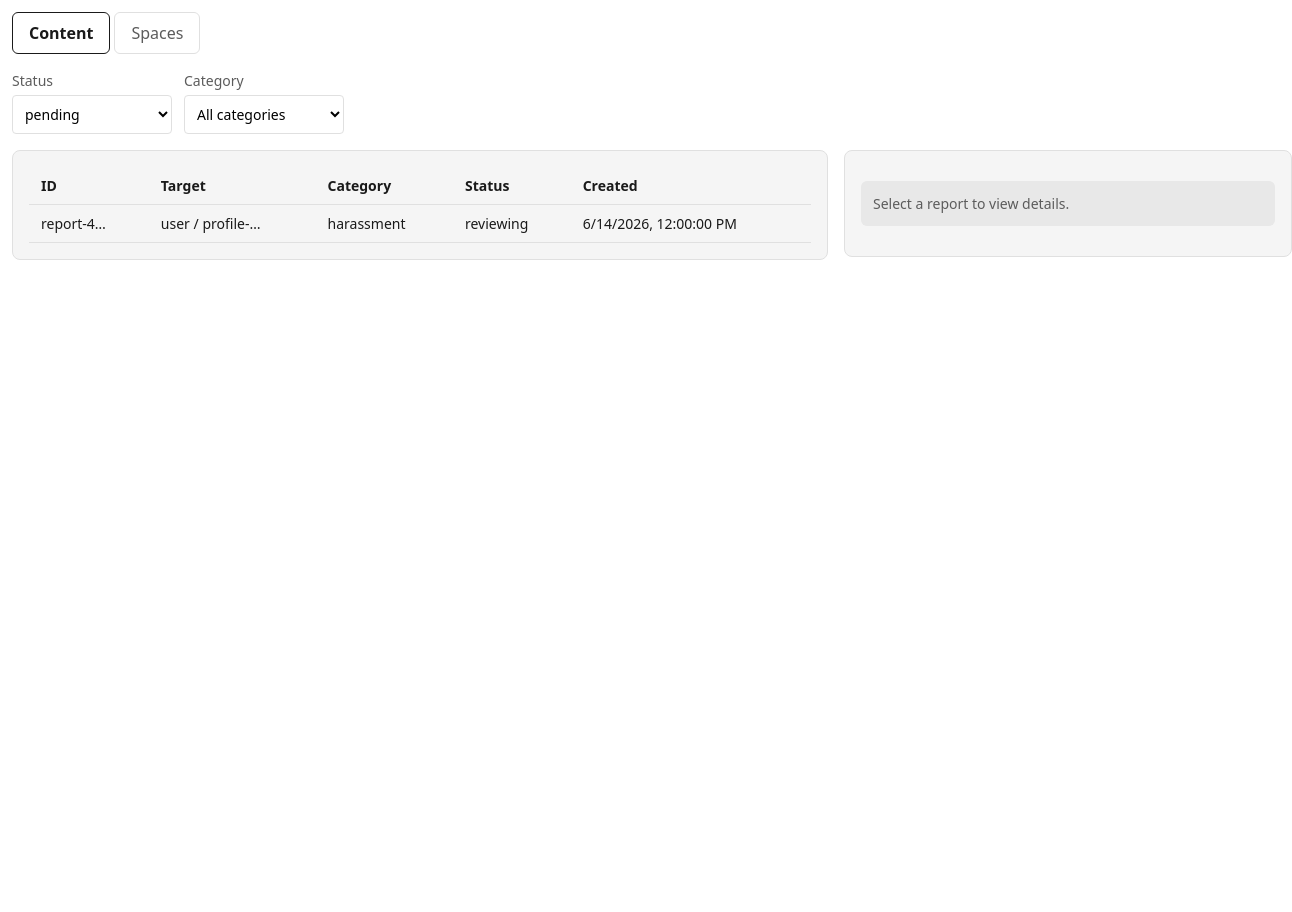
it: QueuePage report close workflow › resolves selected report and removes it from pending queue
Click the row with test id "report-row-report-42" at (420, 224), box [29, 204, 811, 242]
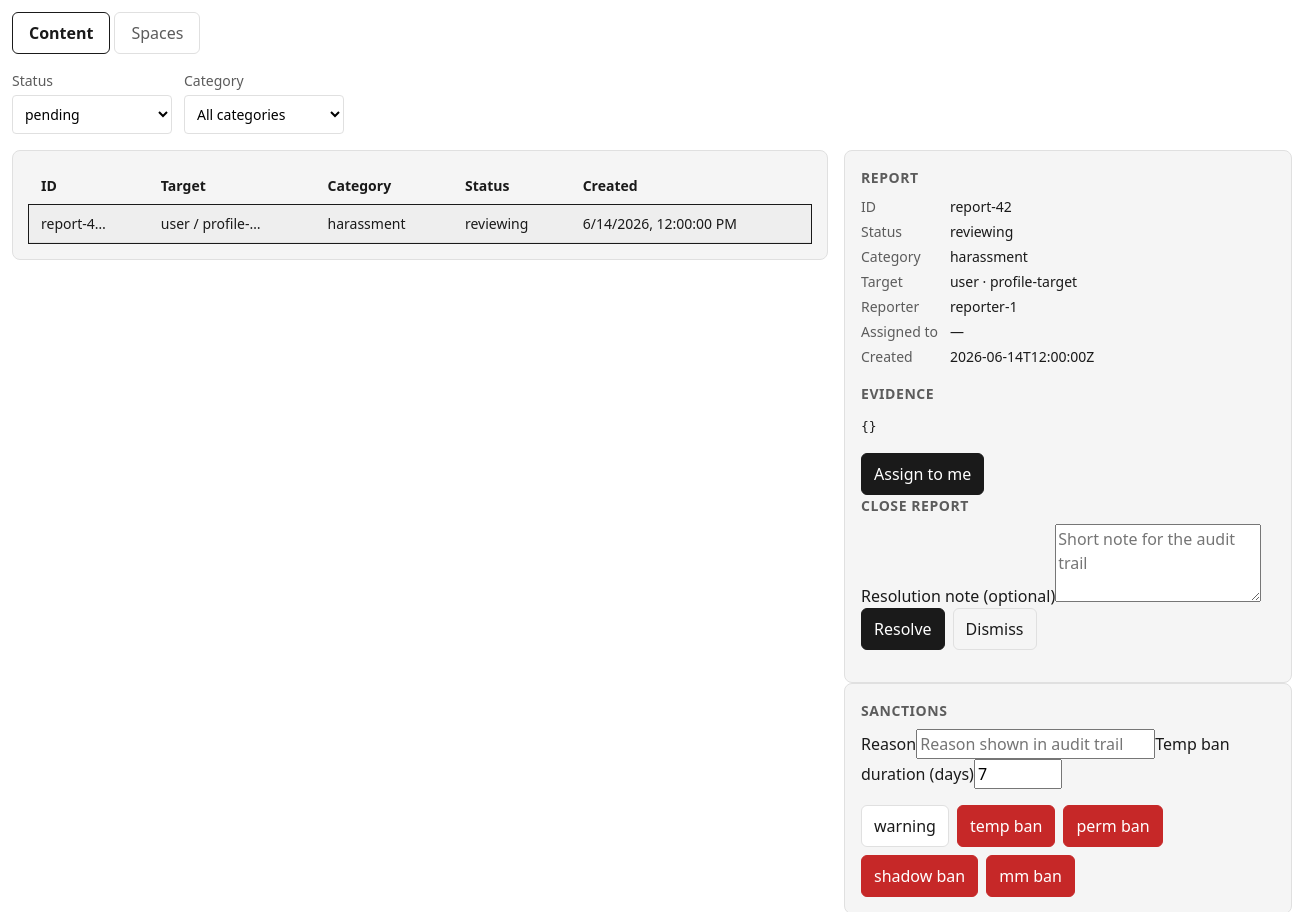
Type "ok" into the text box with test id "resolution-note" at (1158, 562), box [1055, 524, 1261, 602]
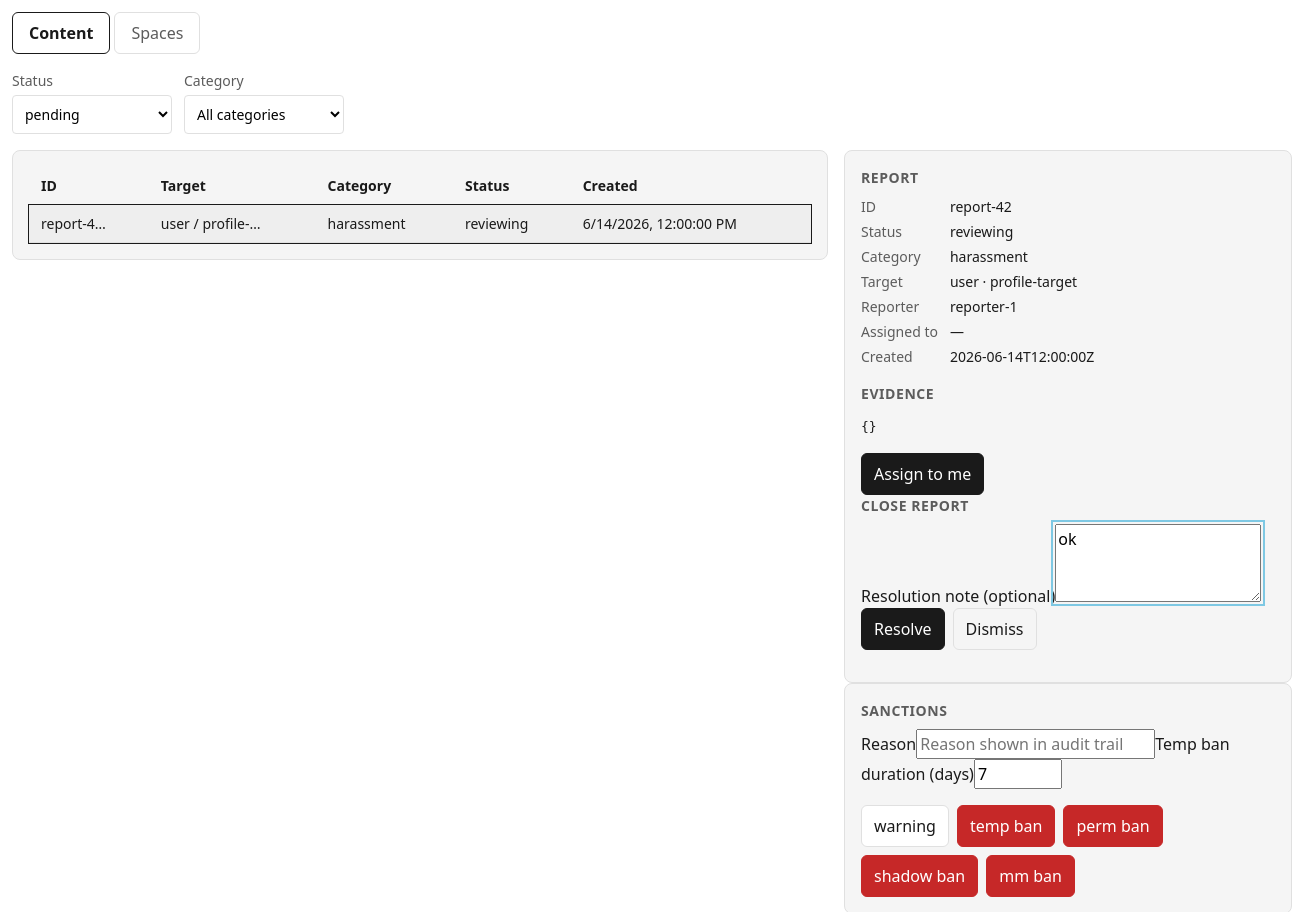
Click the button with test id "resolve-report" at (903, 628), box [861, 608, 945, 650]
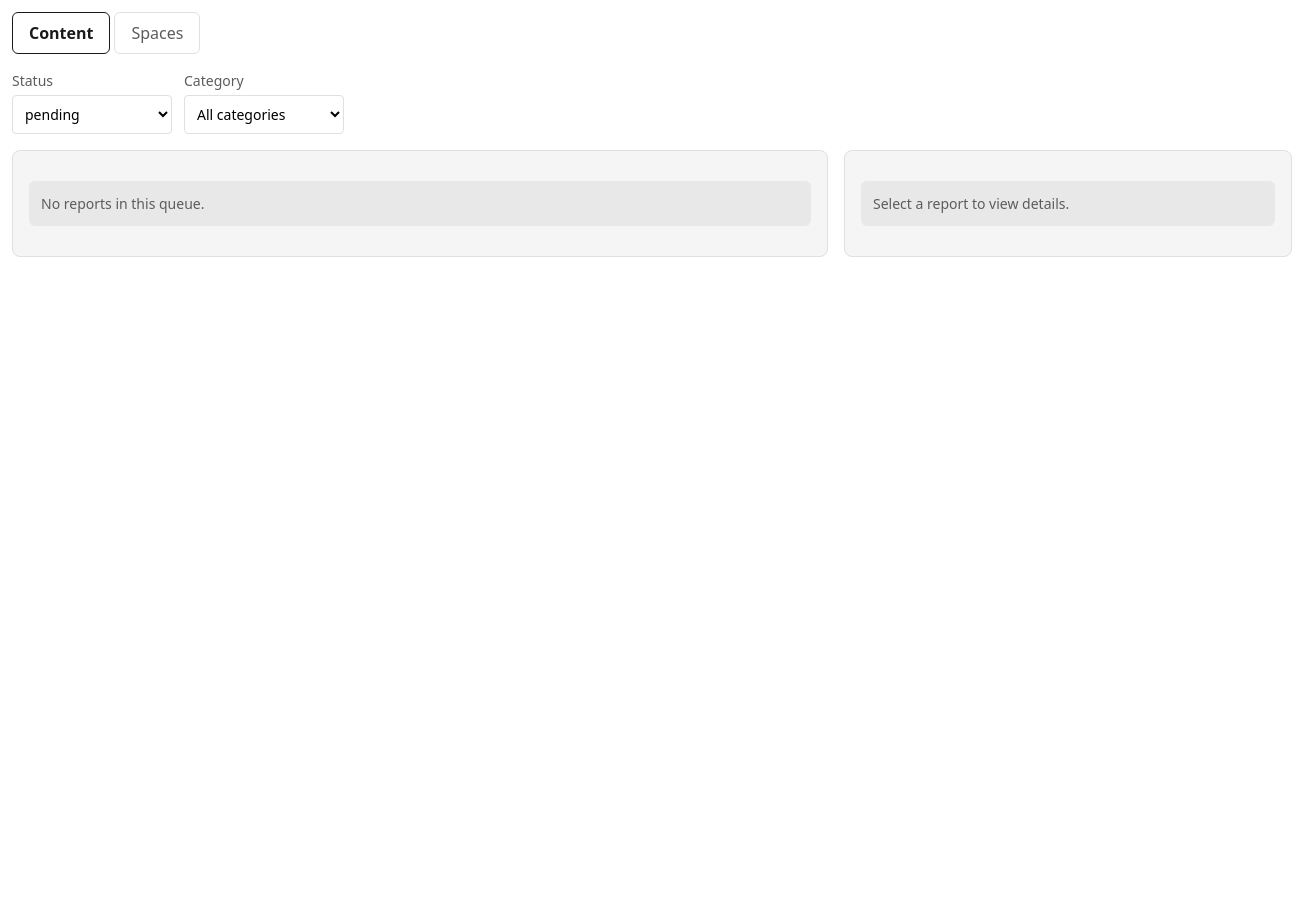
Now the row with test id "report-row-report-42" is gone
Now the text "Select a report to view details." is shown, box [861, 181, 1275, 226]
